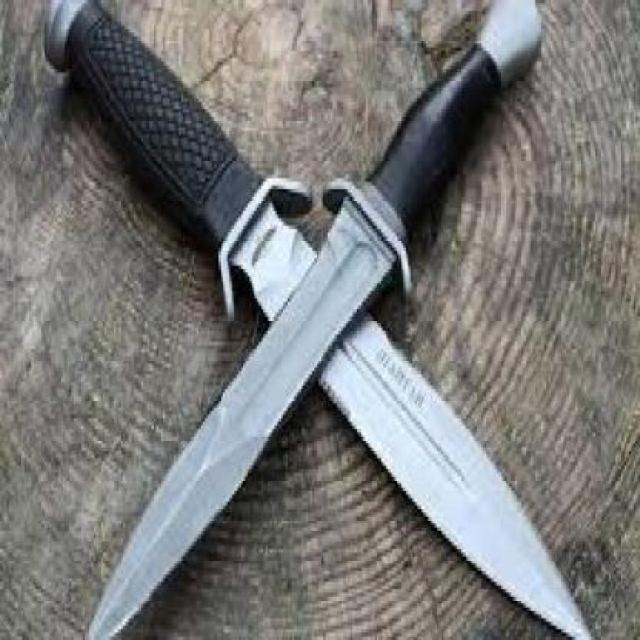weapon: (47, 0, 622, 636), (68, 1, 546, 640)
